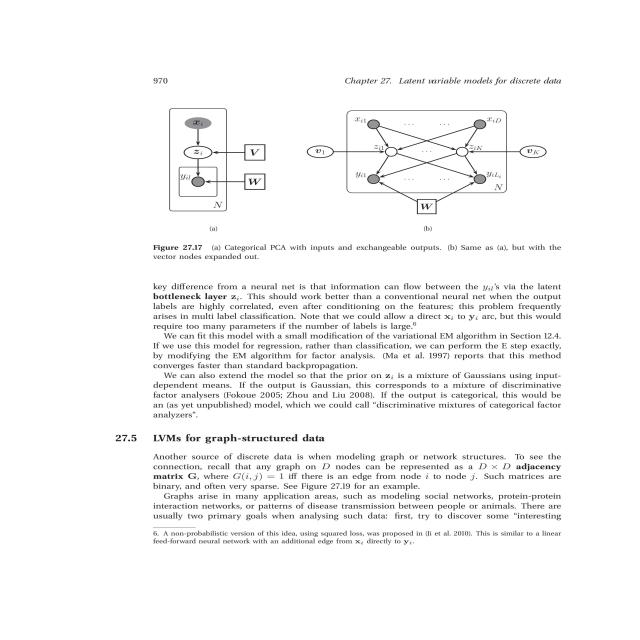diagram: (112, 92, 578, 266)
